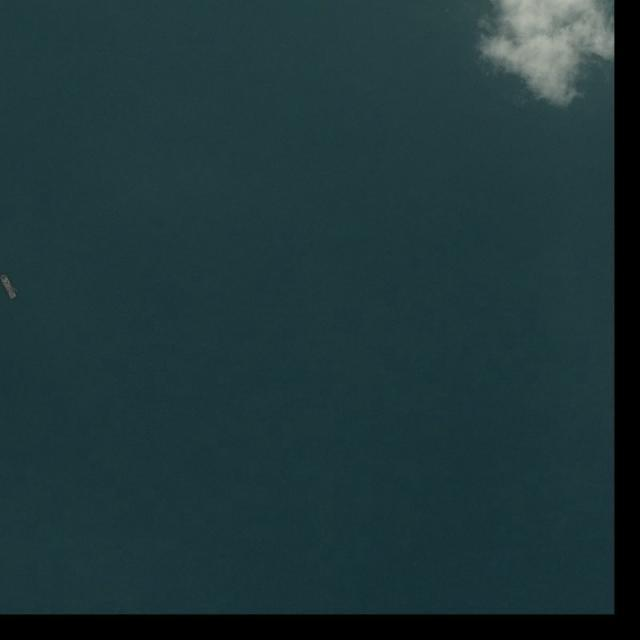ship: (1, 273, 18, 300)
